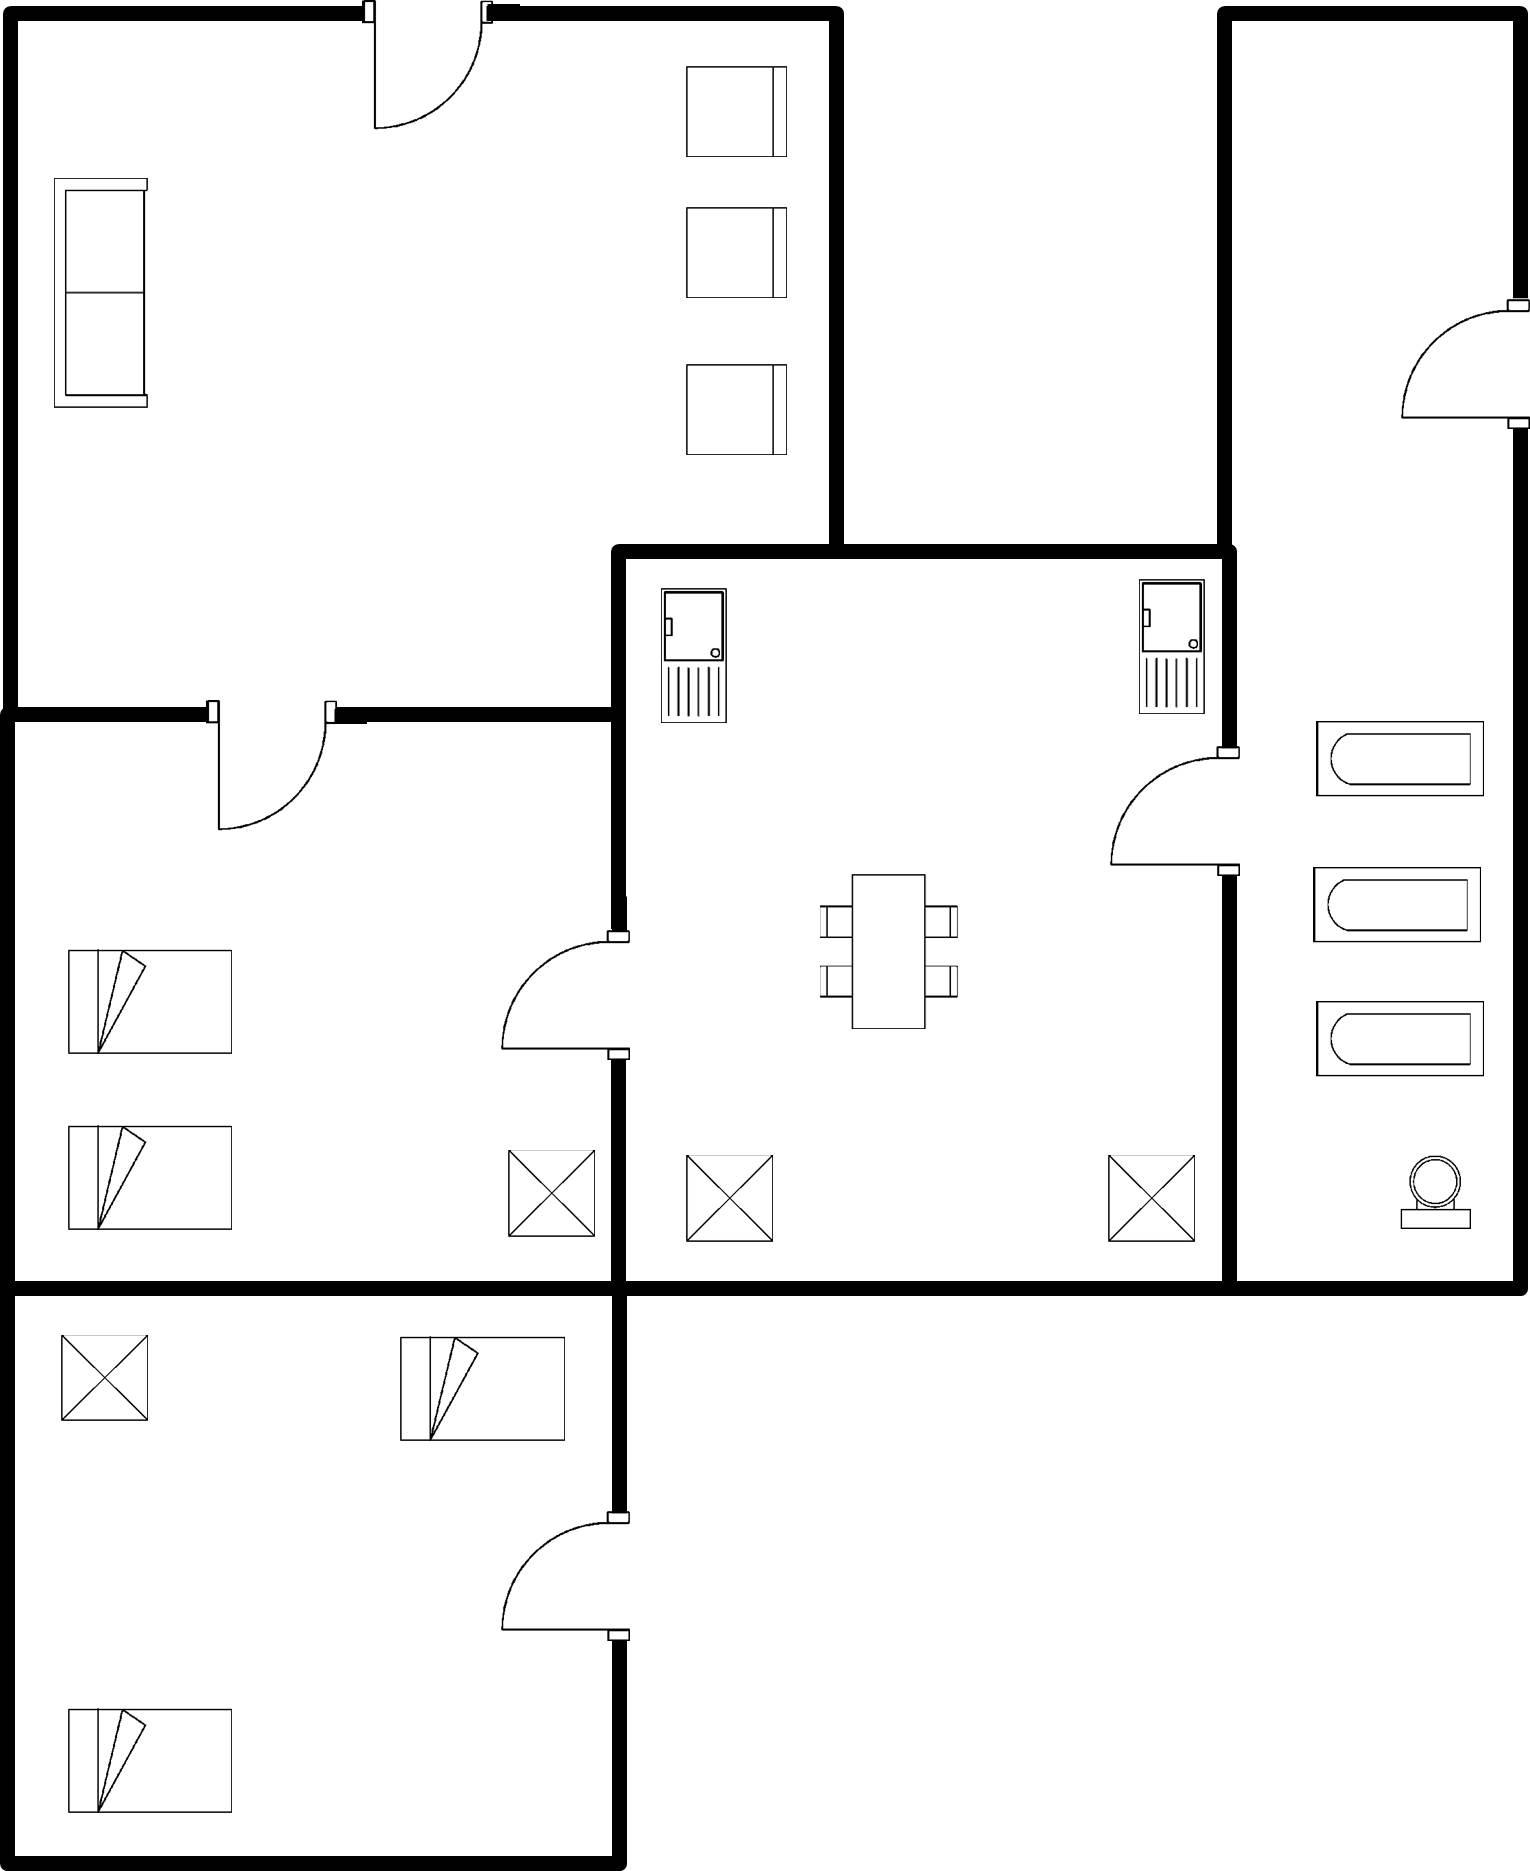bed: (387, 1321, 579, 1458), (54, 1699, 252, 1829), (54, 1114, 244, 1246), (48, 939, 245, 1064), (43, 1321, 162, 1444), (488, 1131, 601, 1253), (674, 1141, 791, 1254)
dining_table: (805, 861, 969, 1041)
sink: (643, 580, 742, 730), (1125, 563, 1215, 727)
sofa: (39, 163, 163, 424)
toilet: (1379, 1141, 1480, 1239)
tub: (1297, 852, 1494, 954), (1303, 709, 1494, 813), (1305, 988, 1500, 1089)
